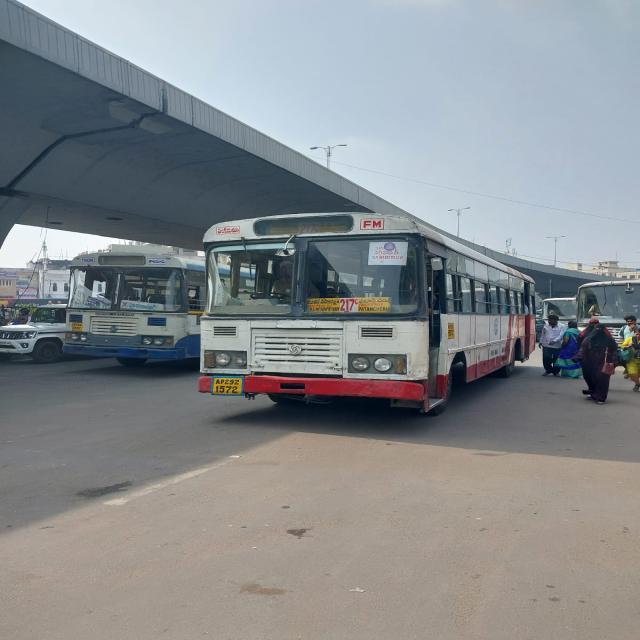Bus: (198, 207, 538, 422)
